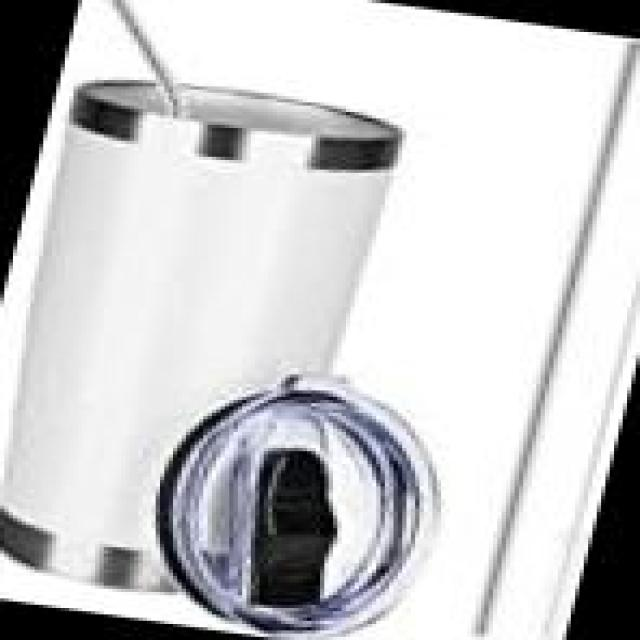bottle: (0, 0, 428, 614)
